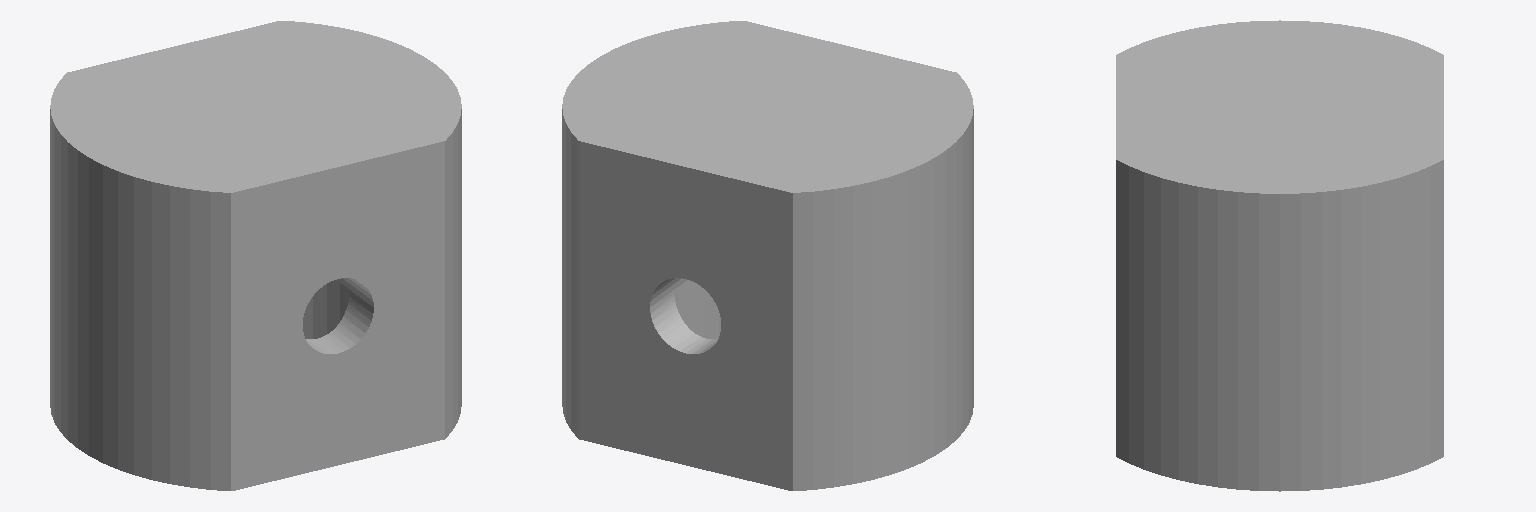
The robot description file, URDF, robot "root":
<?xml version='1.0' encoding='utf-8'?>
<robot name="root">
  <link name="link_001">
    <visual>
      <origin xyz="0 0 0" rpy="0 0 0" />
      <geometry>
        <mesh filename="583075711f06385bb05cf2e2b39dbc4e358115859472a5c6c6572acfe3b54626_scale_180.stl" scale="1.0000E+00 1.0000E+00 1.0000E+00" />
      </geometry>
      <material name="">
        <color rgba="7.50E-01 7.50E-01 7.50E-01 1" />
      </material>
    </visual>
    <collision>
      <origin xyz="0 0 0" rpy="0 0 0" />
      <geometry>
        <mesh filename="583075711f06385bb05cf2e2b39dbc4e358115859472a5c6c6572acfe3b54626_scale_180.stl" scale="1.0000E+00 1.0000E+00 1.0000E+00" />
      </geometry>
    </collision>
  </link>
</robot>

--- Render facts (derived) ---
3 views of the same robot in one strip: view 1: azimuth 30°, elevation 25°; view 2: azimuth 150°, elevation 25°; view 3: azimuth 270°, elevation 25° (orthographic).
Model root with 1 links and 0 joints (none), rooted at link_001, posed all joints at 0.
Links seen in each view (by area): view 1: link_001; view 2: link_001; view 3: link_001.
Boxes of the visible links, bbox=[...] form: link_001: bbox=[50, 21, 461, 490]; link_001: bbox=[562, 21, 973, 490]; link_001: bbox=[1116, 20, 1443, 491].
Size in the robot's own frame: 0.09 by 0.072 by 0.072 metres.
Meshes: 1 distinct files referenced, 1 mesh visuals loaded (1 binary STL).
